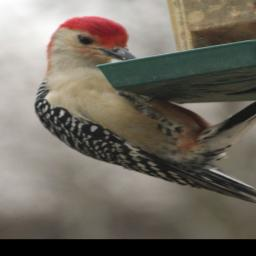Woodpecker: (36, 16, 256, 213)
